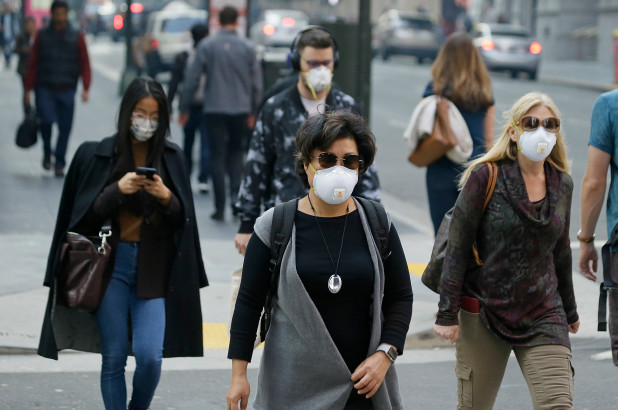mask: (310, 167, 359, 203), (519, 130, 559, 162), (302, 68, 333, 90), (132, 119, 159, 143)
